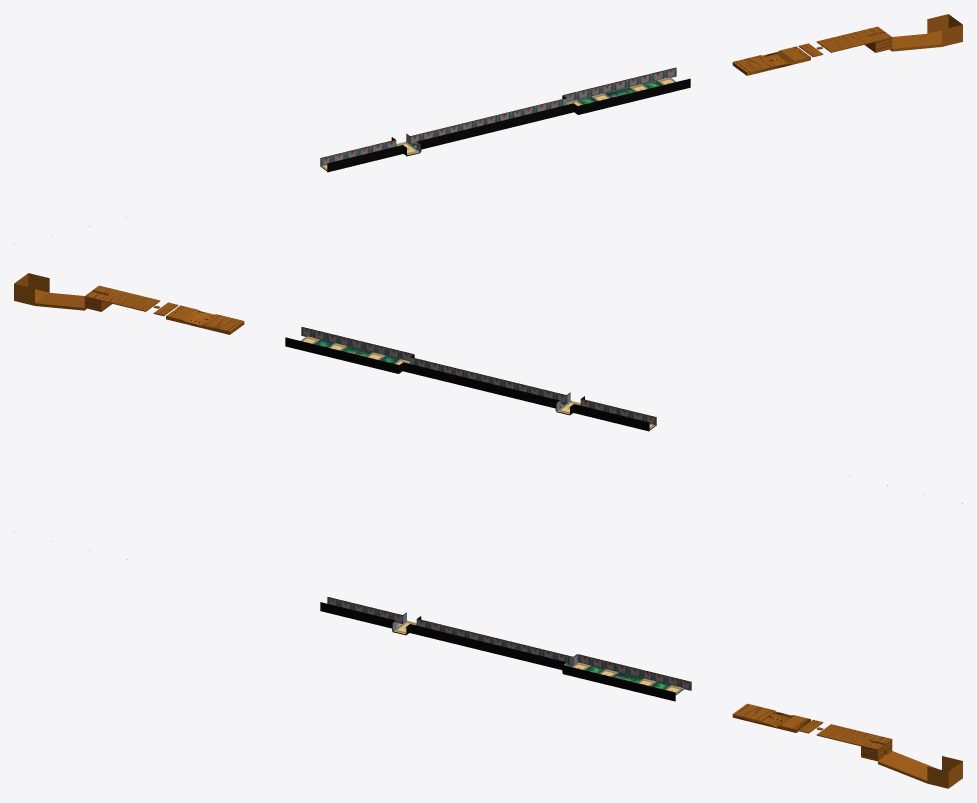
3 renders of one model, top to bottom at view 1: azimuth 30°, elevation 25°; view 2: azimuth 150°, elevation 25°; view 3: azimuth 330°, elevation 25°, orthographic.
Visible parts, largest first — view 1: sol16, sol9; view 2: sol16, sol9; view 3: sol16, sol9.
Boxes of the visible parts, x1,y1,x2,y2 form: sol16: (861,14,962,52); sol9: (732,52,791,75); sol16: (14,273,115,311); sol9: (185,311,244,334); sol16: (861,735,962,788); sol9: (732,703,791,728).
Bounding box in the file's own units: 2251 × 67.98 × 63.6.
10 materials, 9 textured.
